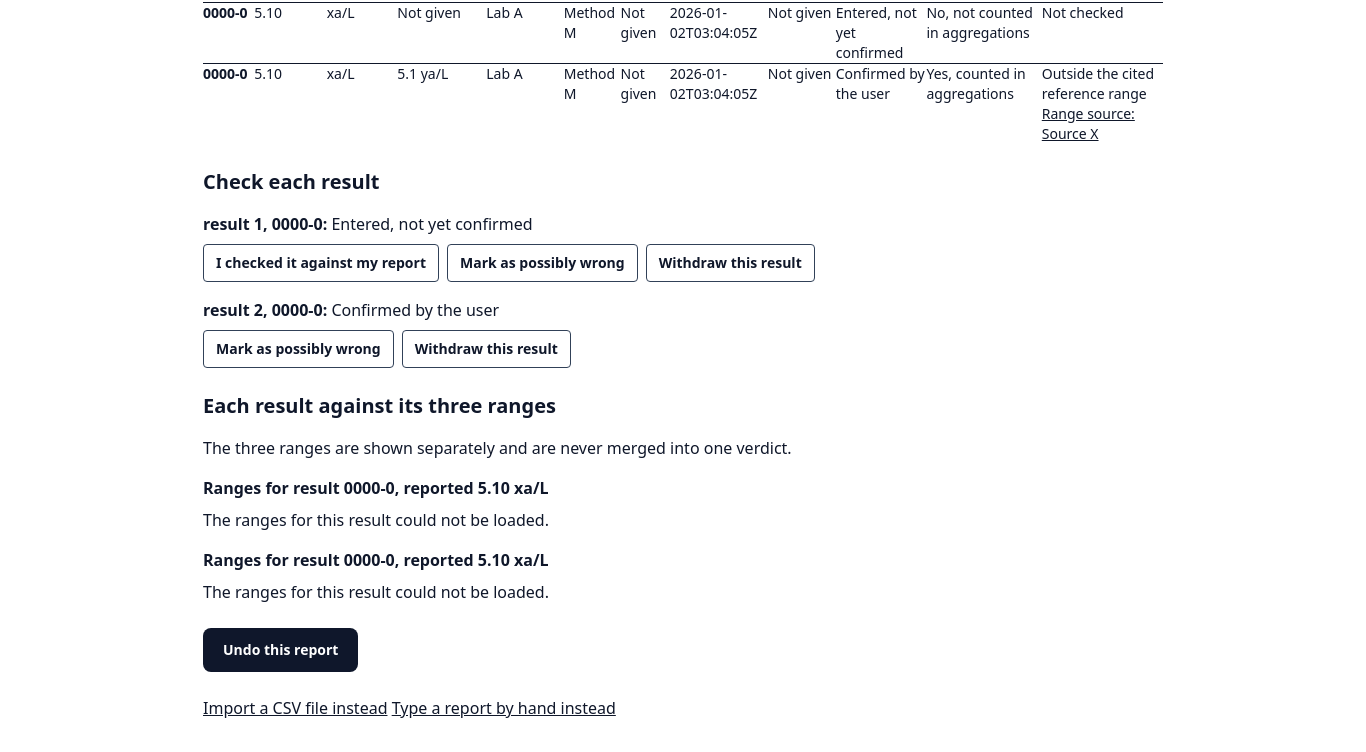
Test: a 409 on undo says a typed report cannot be undone
(page scrolled)
Click the button "Undo this report" at [281, 650], box [203,628,358,672]
(page scrolled)
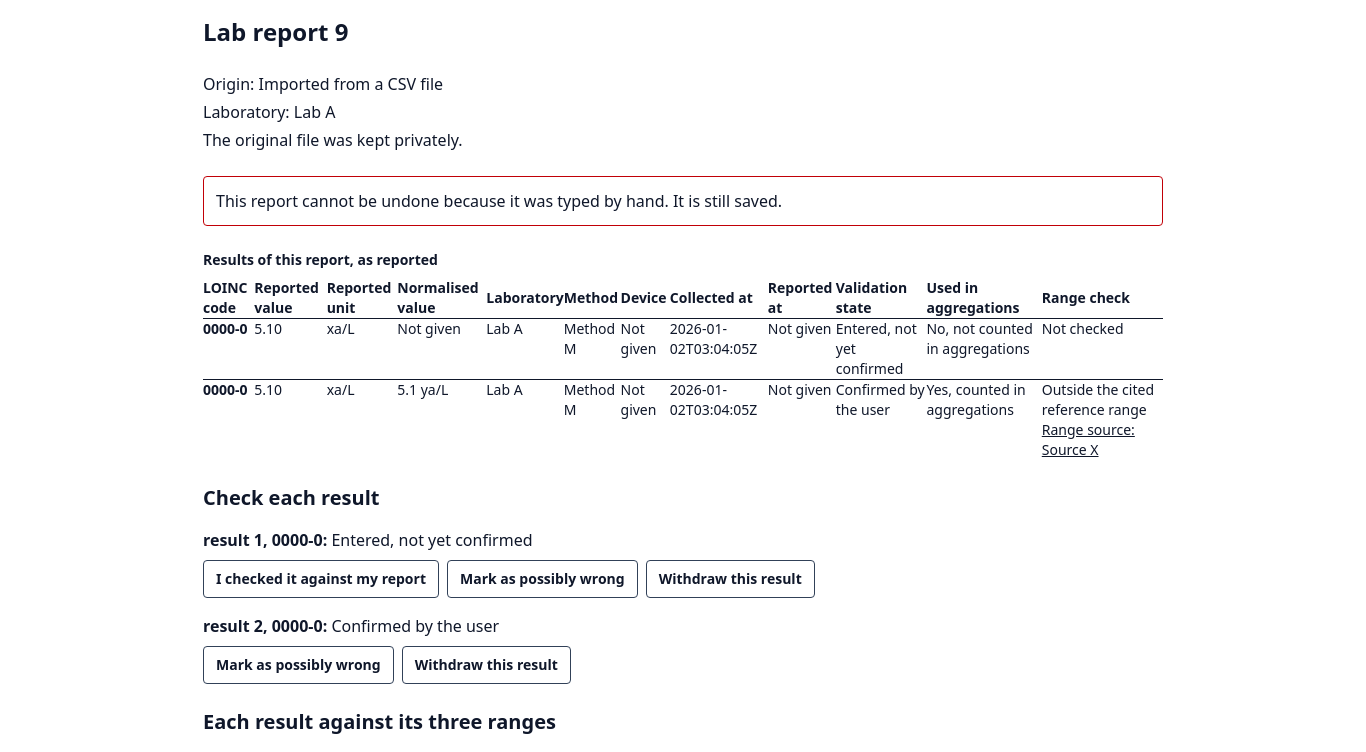
Now the text "typed by hand. It is still saved" is shown, box [216,190,782,212]
